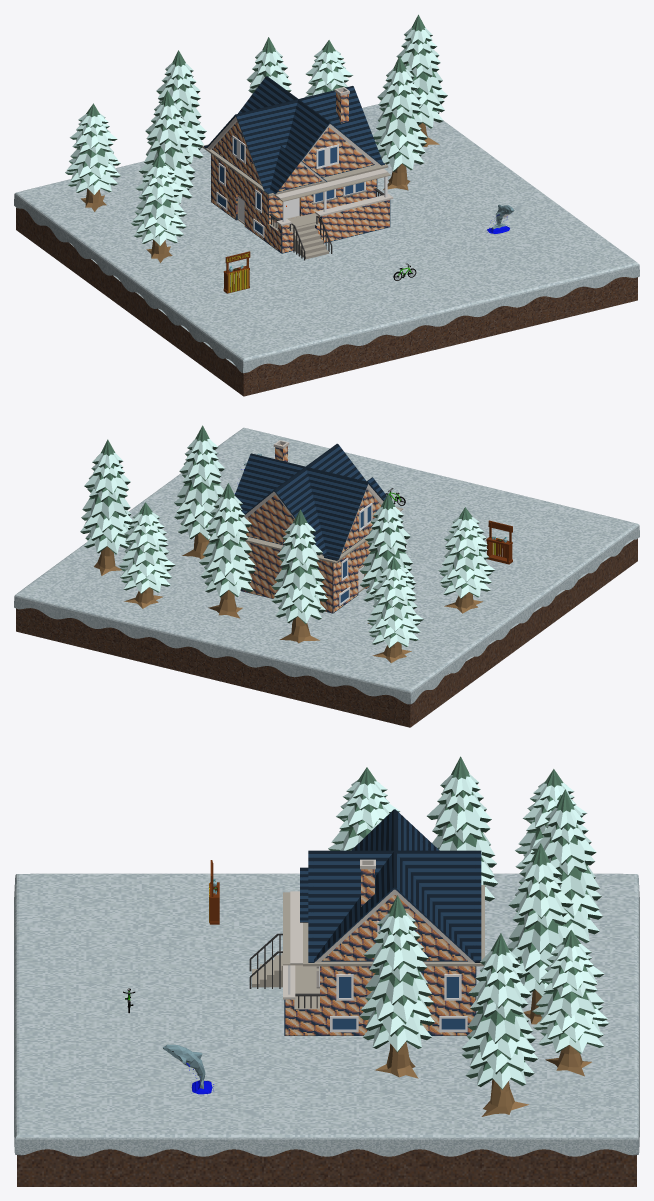
3 views of the same model, one above another, from view 1: azimuth 30°, elevation 25°; view 2: azimuth 150°, elevation 25°; view 3: azimuth 270°, elevation 25° (orthographic). The views are drawn at different scales.
Parts seen in each view (by area): view 1: Cube.003, Cube.430, OBJRANDOM_LEMONADE_STAND; view 2: Cube.003, Cube.430, OBJRANDOM_LEMONADE_STAND; view 3: Cube.003, Cube.430, ANIMAL_DELFIN.
Part boxes in pixels (x1,y1,x2,y2): Cube.003: [14, 14, 639, 396]; Cube.430: [202, 76, 393, 260]; OBJRANDOM_LEMONADE_STAND: [223, 251, 250, 293]; Cube.003: [14, 425, 639, 727]; Cube.430: [235, 440, 405, 613]; OBJRANDOM_LEMONADE_STAND: [486, 520, 512, 564]; Cube.003: [14, 756, 639, 1186]; Cube.430: [249, 809, 484, 1035]; ANIMAL_DELFIN: [163, 1044, 214, 1094].
Bounding box in the file's own units: 4040 × 1642 × 4040.
Materials: 34 (5 with a texture image).
